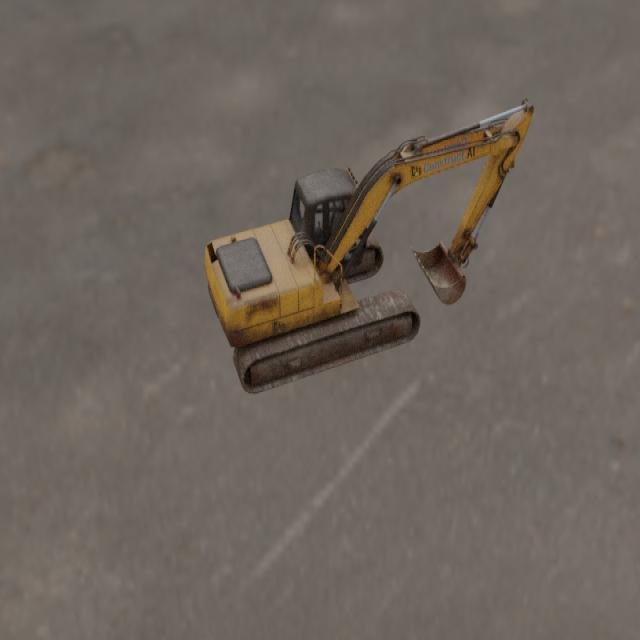excavator: (203, 96, 534, 393)
